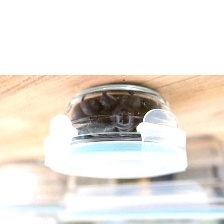plastic_box: (35, 77, 194, 185)
